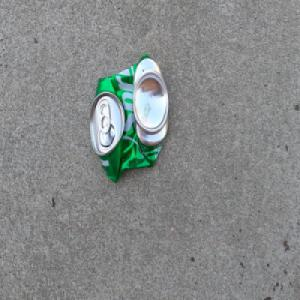SodaCan: (88, 53, 169, 184)
